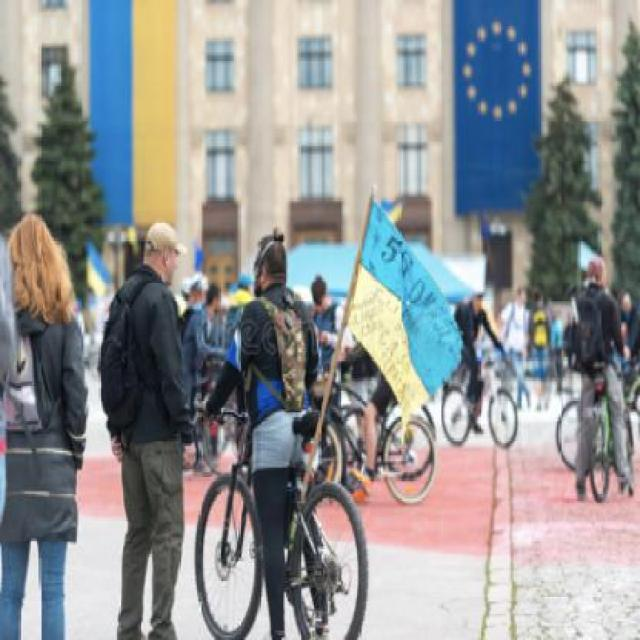Without Helmet: (252, 224, 291, 278)
